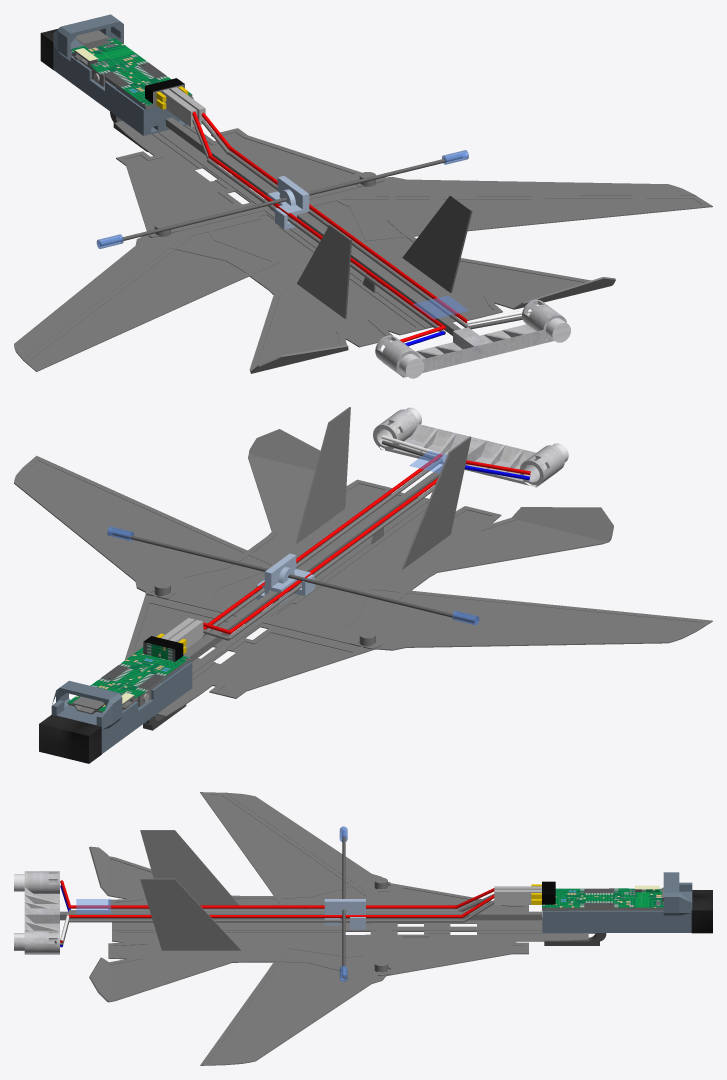
3 renders of one model, top to bottom at view 1: azimuth 30°, elevation 25°; view 2: azimuth 150°, elevation 25°; view 3: azimuth 270°, elevation 25°, orthographic. The views are drawn at different scales.
Parts seen in each view (by area): view 1: root, 720B_new_37_615_0.98a+1_Wing fence_bigger circle--current, object 2, object 6, 元件#1, bar_hook_current; view 2: root, 720B_new_37_615_0.98a+1_Wing fence_bigger circle--current, object 2, object 6, 元件#1, bar_hook_current; view 3: root, 720B_new_37_615_0.98a+1_Wing fence_bigger circle--current, object 2, object 6, bar_hook_current, 元件#1.
Part boxes in pixels (left/top/right/bottom): root: left=14, top=14, right=712, bottom=373; 720B_new_37_615_0.98a+1_Wing fence_bigger circle--current: left=375, top=299, right=570, bottom=378; object 2: left=227, top=146, right=468, bottom=327; object 6: left=207, top=155, right=445, bottom=334; 元件#1: left=100, top=155, right=462, bottom=245; bar_hook_current: left=267, top=176, right=309, bottom=229; root: left=14, top=407, right=712, bottom=763; 720B_new_37_615_0.98a+1_Wing fence_bigger circle--current: left=373, top=407, right=568, bottom=487; object 2: left=203, top=453, right=442, bottom=635; object 6: left=228, top=478, right=437, bottom=640; 元件#1: left=113, top=531, right=475, bottom=622; bar_hook_current: left=256, top=553, right=314, bottom=604; root: left=54, top=792, right=712, bottom=1065; 720B_new_37_615_0.98a+1_Wing fence_bigger circle--current: left=14, top=871, right=59, bottom=954; object 2: left=68, top=915, right=464, bottom=922; object 6: left=68, top=905, right=457, bottom=911; bar_hook_current: left=324, top=899, right=365, bottom=929; 元件#1: left=342, top=830, right=345, bottom=978.
Bounding box in the file's own units: 0.2435 × 0.0346 × 0.2634.
Materials: 21 (5 with a texture image).
